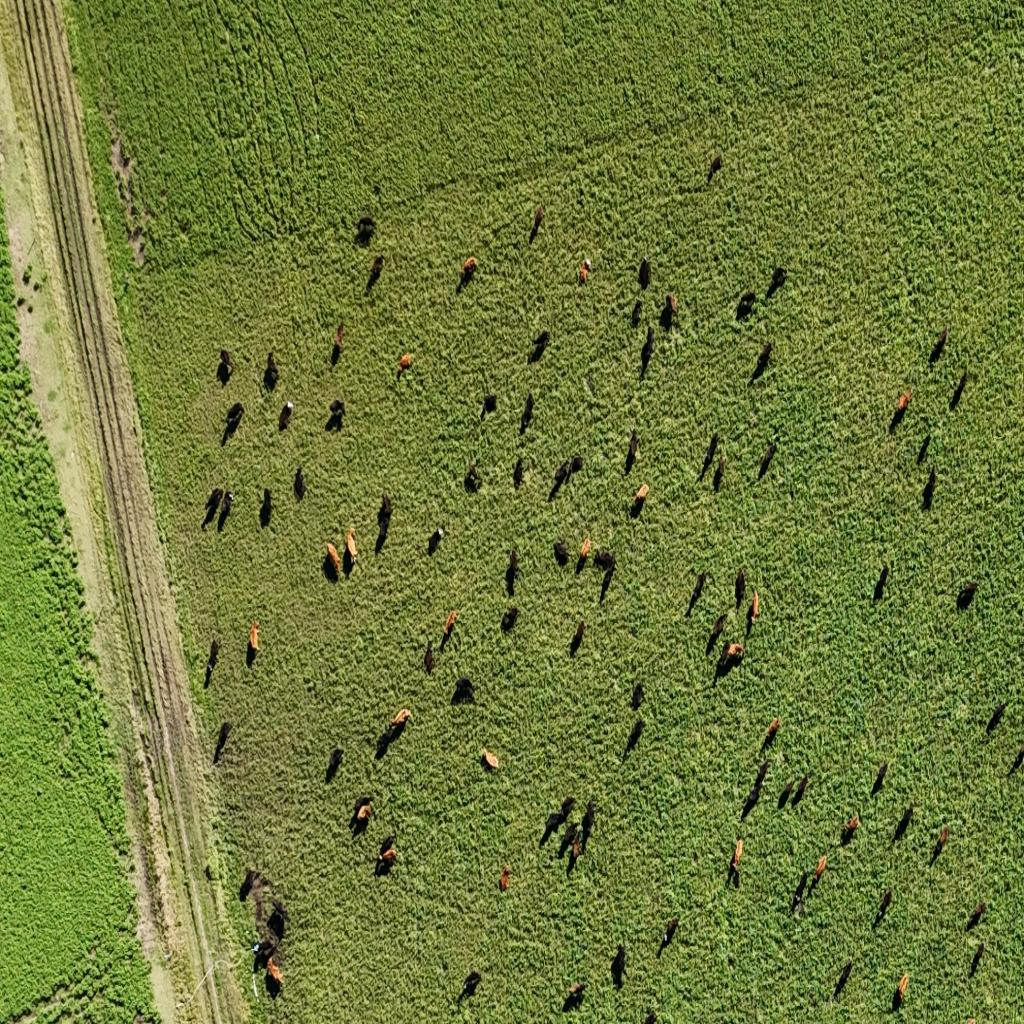cow: (318, 534, 343, 596), (339, 517, 365, 573), (252, 936, 277, 972), (687, 573, 707, 614), (376, 721, 397, 760), (741, 779, 762, 818), (890, 390, 912, 427), (753, 756, 773, 796), (238, 868, 262, 901), (624, 717, 644, 756), (558, 821, 579, 858), (758, 439, 777, 479), (833, 960, 853, 998), (267, 902, 287, 940), (950, 368, 968, 410), (792, 870, 808, 916), (506, 550, 522, 593), (213, 722, 231, 760), (894, 805, 913, 841), (204, 488, 224, 522), (986, 701, 1006, 735), (702, 432, 718, 474), (452, 676, 476, 704), (708, 614, 726, 651), (922, 464, 937, 508), (542, 810, 564, 840), (379, 836, 399, 869), (1006, 744, 1024, 780), (777, 772, 795, 808), (552, 460, 571, 494), (762, 716, 781, 750), (956, 581, 978, 610), (581, 798, 595, 842), (265, 959, 283, 993), (530, 330, 549, 362), (218, 490, 234, 528), (872, 757, 888, 795), (599, 563, 615, 601), (968, 899, 988, 929), (354, 795, 374, 825), (715, 644, 733, 677), (355, 214, 376, 242), (931, 326, 948, 360), (792, 773, 809, 807), (874, 564, 890, 600), (264, 351, 279, 389), (661, 293, 677, 328), (376, 516, 391, 553), (225, 402, 244, 431), (521, 392, 535, 431), (969, 942, 985, 976), (876, 888, 892, 922), (559, 796, 578, 824), (729, 840, 743, 878), (327, 746, 343, 779), (662, 916, 679, 947), (462, 970, 482, 996), (642, 324, 655, 364), (812, 856, 828, 888), (611, 943, 626, 977), (934, 826, 949, 860), (594, 550, 615, 574), (757, 341, 773, 372), (737, 290, 756, 316), (894, 972, 908, 1007), (734, 568, 746, 608), (501, 606, 519, 632), (368, 255, 384, 284), (219, 348, 235, 377), (917, 432, 931, 465), (553, 539, 570, 566), (207, 635, 220, 670), (428, 526, 444, 554), (770, 266, 787, 292), (627, 430, 640, 464), (632, 483, 649, 509), (390, 708, 412, 728), (631, 680, 645, 710), (294, 465, 306, 500), (280, 400, 294, 430), (378, 492, 392, 522), (725, 641, 745, 662), (638, 255, 650, 289), (261, 487, 272, 524), (708, 154, 722, 183), (466, 460, 480, 489), (532, 201, 544, 234), (572, 620, 585, 650), (714, 455, 726, 487), (482, 392, 498, 416), (444, 608, 457, 637), (844, 812, 859, 837), (482, 748, 499, 770), (248, 621, 260, 652), (579, 536, 592, 564), (329, 399, 345, 421), (462, 256, 477, 279), (579, 258, 592, 284), (750, 590, 760, 623), (513, 457, 523, 489), (424, 642, 434, 673), (334, 320, 345, 348), (567, 982, 584, 1000), (398, 352, 413, 372), (583, 375, 596, 398), (632, 299, 642, 328), (570, 454, 583, 476), (500, 866, 511, 890), (644, 1010, 658, 1024)
